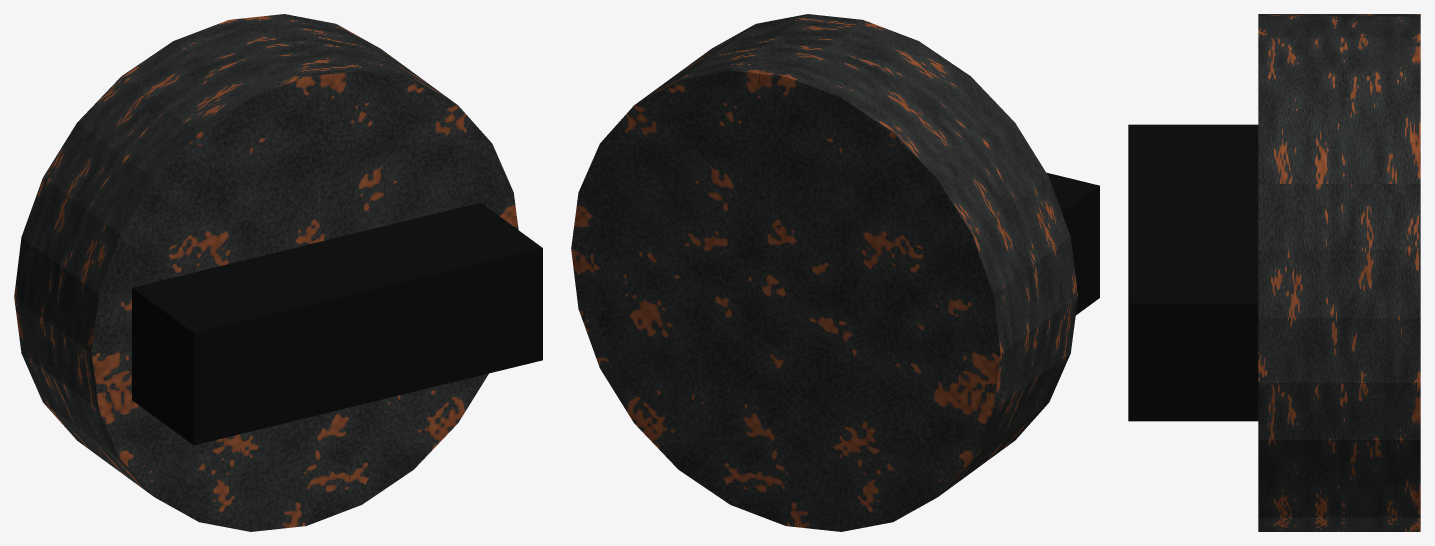
The model's file is Part_CapPivot.obj.
3 renders of one model, left to right at view 1: azimuth 30°, elevation 25°; view 2: azimuth 150°, elevation 25°; view 3: azimuth 270°, elevation 25°, orthographic. The views are drawn at different scales.
Parts seen in each view (by area): view 1: FuelCap, CapGrip; view 2: FuelCap, CapGrip; view 3: FuelCap, CapGrip.
Part boxes in pixels (x1,y1,x2,y2): FuelCap: (14,14,518,531); CapGrip: (132,202,542,445); FuelCap: (571,14,1077,531); CapGrip: (1046,172,1099,315); FuelCap: (1258,14,1420,531); CapGrip: (1128,124,1258,421).
Bounding box in the file's own units: 0.16 × 0.16 × 0.09.
Materials: 2 (1 with a texture image).
